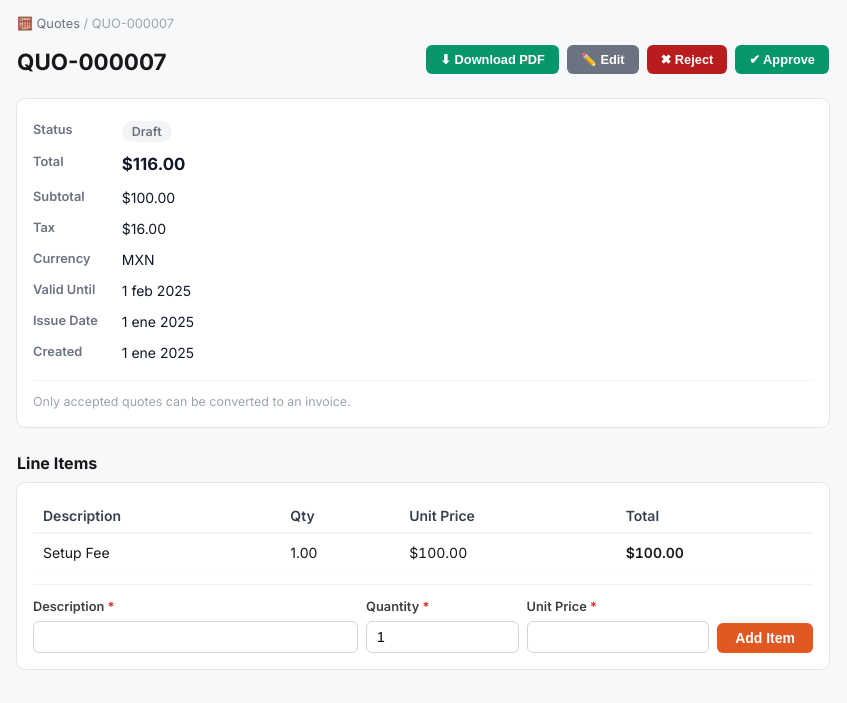
QuoteDetail page › Reject sets the badge to rejected
The width and height of the screenshot is (847, 703).
Expected: the heading "QUO-000007" is shown, 17,45 -> 167,79
Click the button "✖ Reject" at [687, 60], box 647,45 -> 727,74
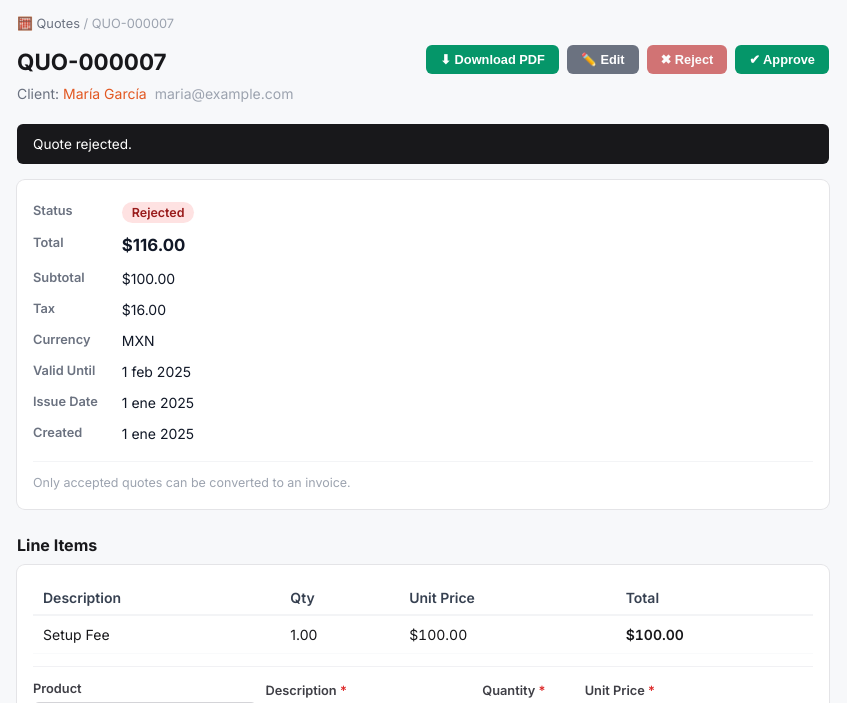
Now the text "rejected" is shown, box 122,202 -> 194,223
